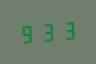nine: (18, 22, 36, 44)
three: (38, 20, 56, 43), (57, 19, 75, 41)
